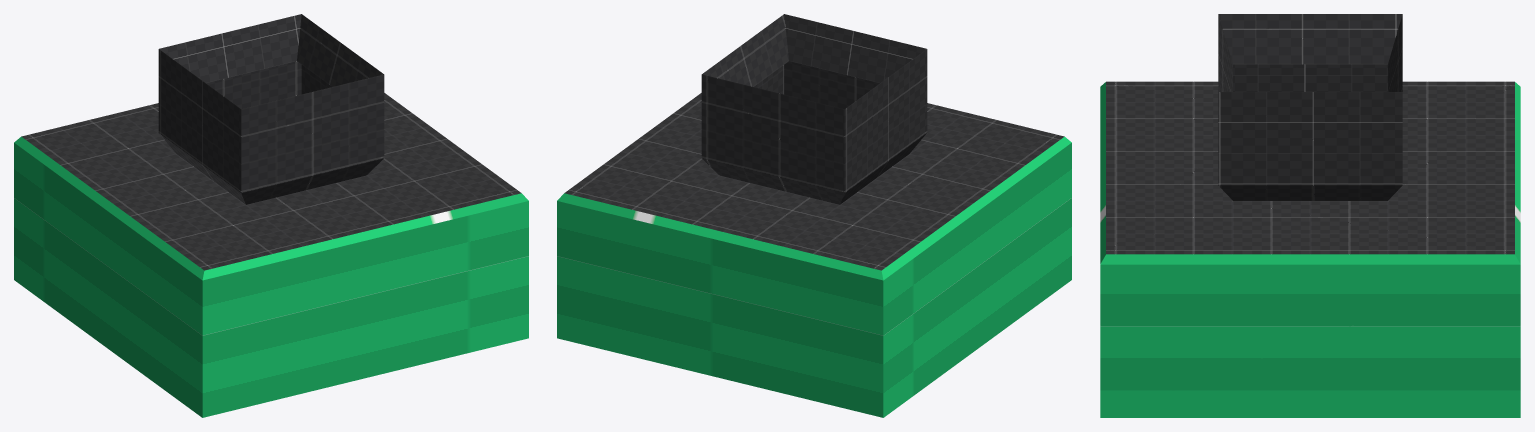
The model's file is Test Ground.gltf.
3 renders of one model, left to right at view 1: azimuth 30°, elevation 25°; view 2: azimuth 150°, elevation 25°; view 3: azimuth 270°, elevation 25°, orthographic. The views are drawn at different scales.
Parts seen in each view (by area): view 1: Cube.001; view 2: Cube.001; view 3: Cube.001.
Part boxes in pixels (bbox=[...]): Cube.001: bbox=[14, 14, 528, 417]; Cube.001: bbox=[557, 14, 1071, 417]; Cube.001: bbox=[1100, 14, 1520, 417].
Bounding box in the file's own units: 50 × 36.31 × 50.
Materials: 4 (4 with a texture image).
